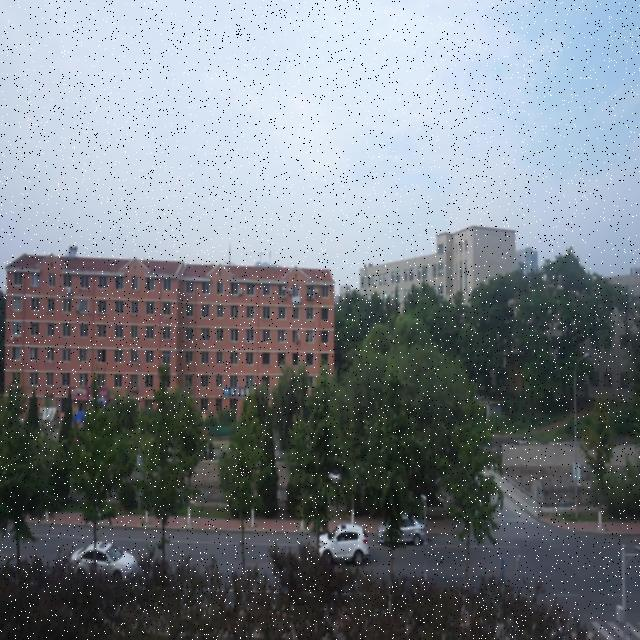UAV: (329, 473, 341, 484)
